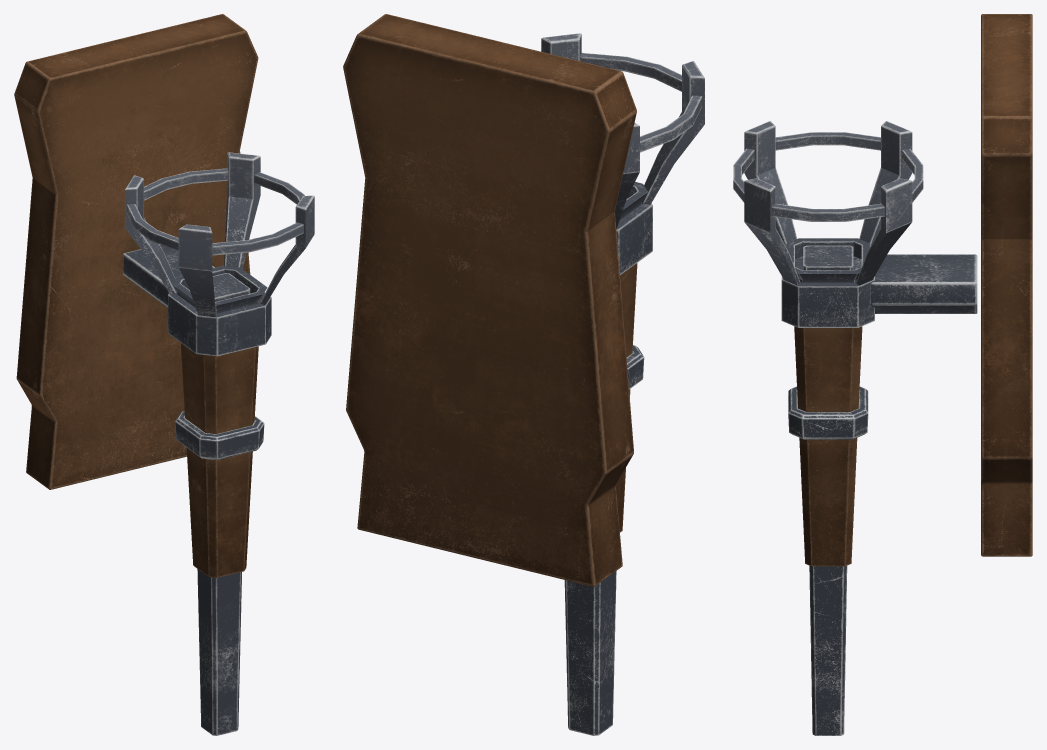
Rendered from Torch_PBR.fbx.
3 views of the same model, side by side, from view 1: azimuth 30°, elevation 25°; view 2: azimuth 150°, elevation 25°; view 3: azimuth 270°, elevation 25° (orthographic). The views are drawn at different scales.
Visible parts, largest first — view 1: WallbaseTorch, Torch; view 2: WallbaseTorch, Torch; view 3: Torch, WallbaseTorch.
Part boxes in pixels (box(x1,y1,x2,y2)): WallbaseTorch: box(14, 14, 258, 489); Torch: box(125, 152, 314, 735); WallbaseTorch: box(343, 14, 636, 586); Torch: box(541, 33, 704, 735); Torch: box(733, 121, 923, 735); WallbaseTorch: box(870, 14, 1032, 556).
Size of the model in its own units: 0.8577 by 2.3 by 0.9409.
